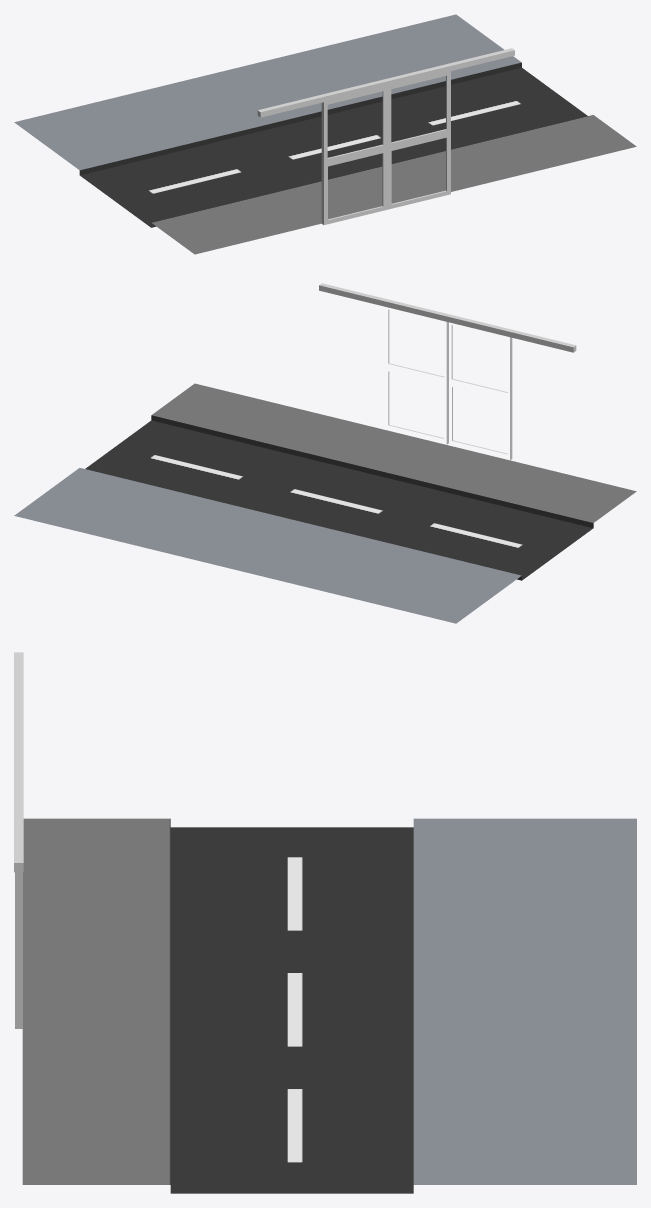
The model's file is supermarketDoor.glb.
The picture shows the model from 3 angles, top to bottom: view 1: azimuth 30°, elevation 25°; view 2: azimuth 150°, elevation 25°; view 3: azimuth 270°, elevation 25°; orthographic projection. The views are drawn at different scales.
Parts seen in each view (by area): view 1: Plane, Cube.000, Cube.001, Cube.002; view 2: Plane, Cube.002, Cube.001, Cube.000; view 3: Plane, Cube.002, Cube.001.
Boxes of the visible parts, left/top/right/bottom form: Plane: left=14, top=14, right=636, bottom=254; Cube.000: left=321, top=87, right=387, bottom=224; Cube.001: left=387, top=71, right=450, bottom=209; Cube.002: left=257, top=48, right=514, bottom=117; Plane: left=14, top=383, right=636, bottom=623; Cube.002: left=319, top=283, right=576, bottom=352; Cube.001: left=388, top=309, right=448, bottom=444; Cube.000: left=451, top=325, right=512, bottom=460; Plane: left=22, top=818, right=636, bottom=1193; Cube.002: left=14, top=652, right=23, bottom=872; Cube.001: left=15, top=872, right=22, bottom=1028.
Size of the model in its own units: 6.96 by 2.01 by 5.
Materials: 2 (1 with a texture image).
